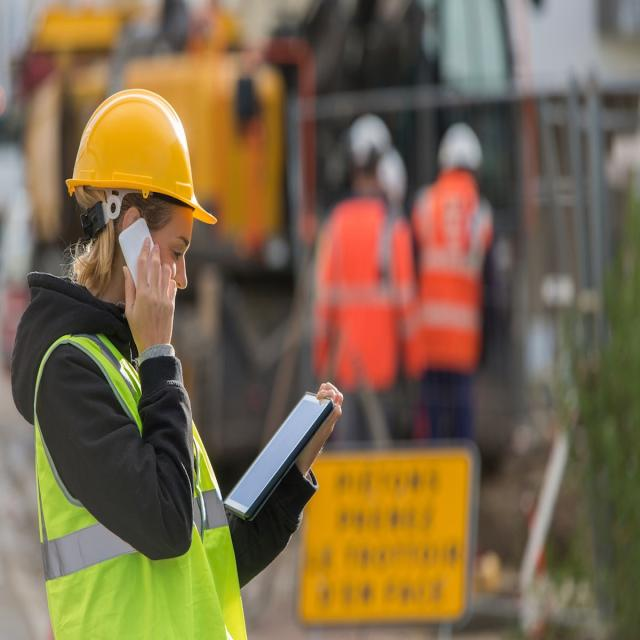goggles: (129, 204, 213, 278)
helmet: (56, 82, 225, 235)
vest: (28, 322, 265, 638)
